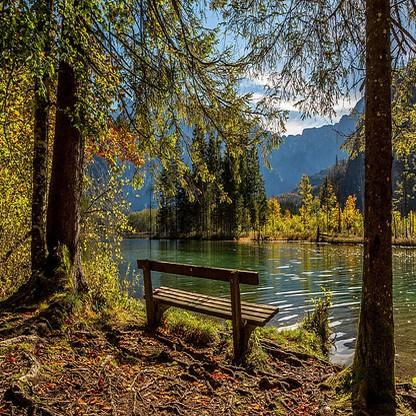obstacle: (129, 245, 286, 374)
